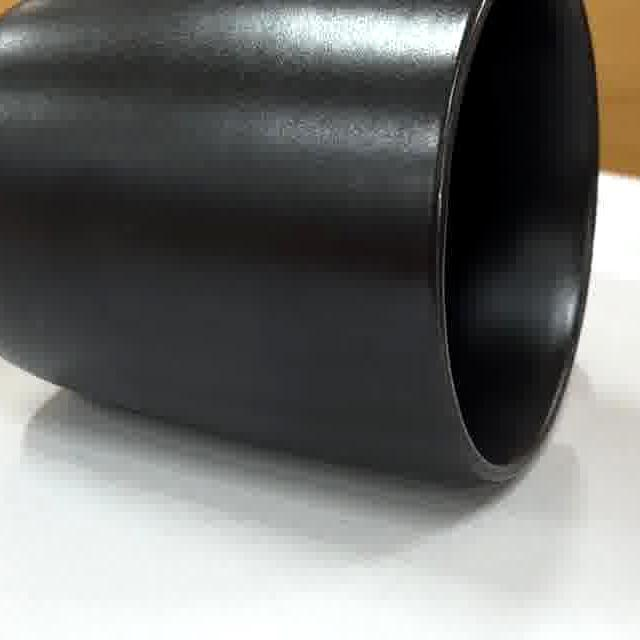cup: (0, 0, 599, 490)
